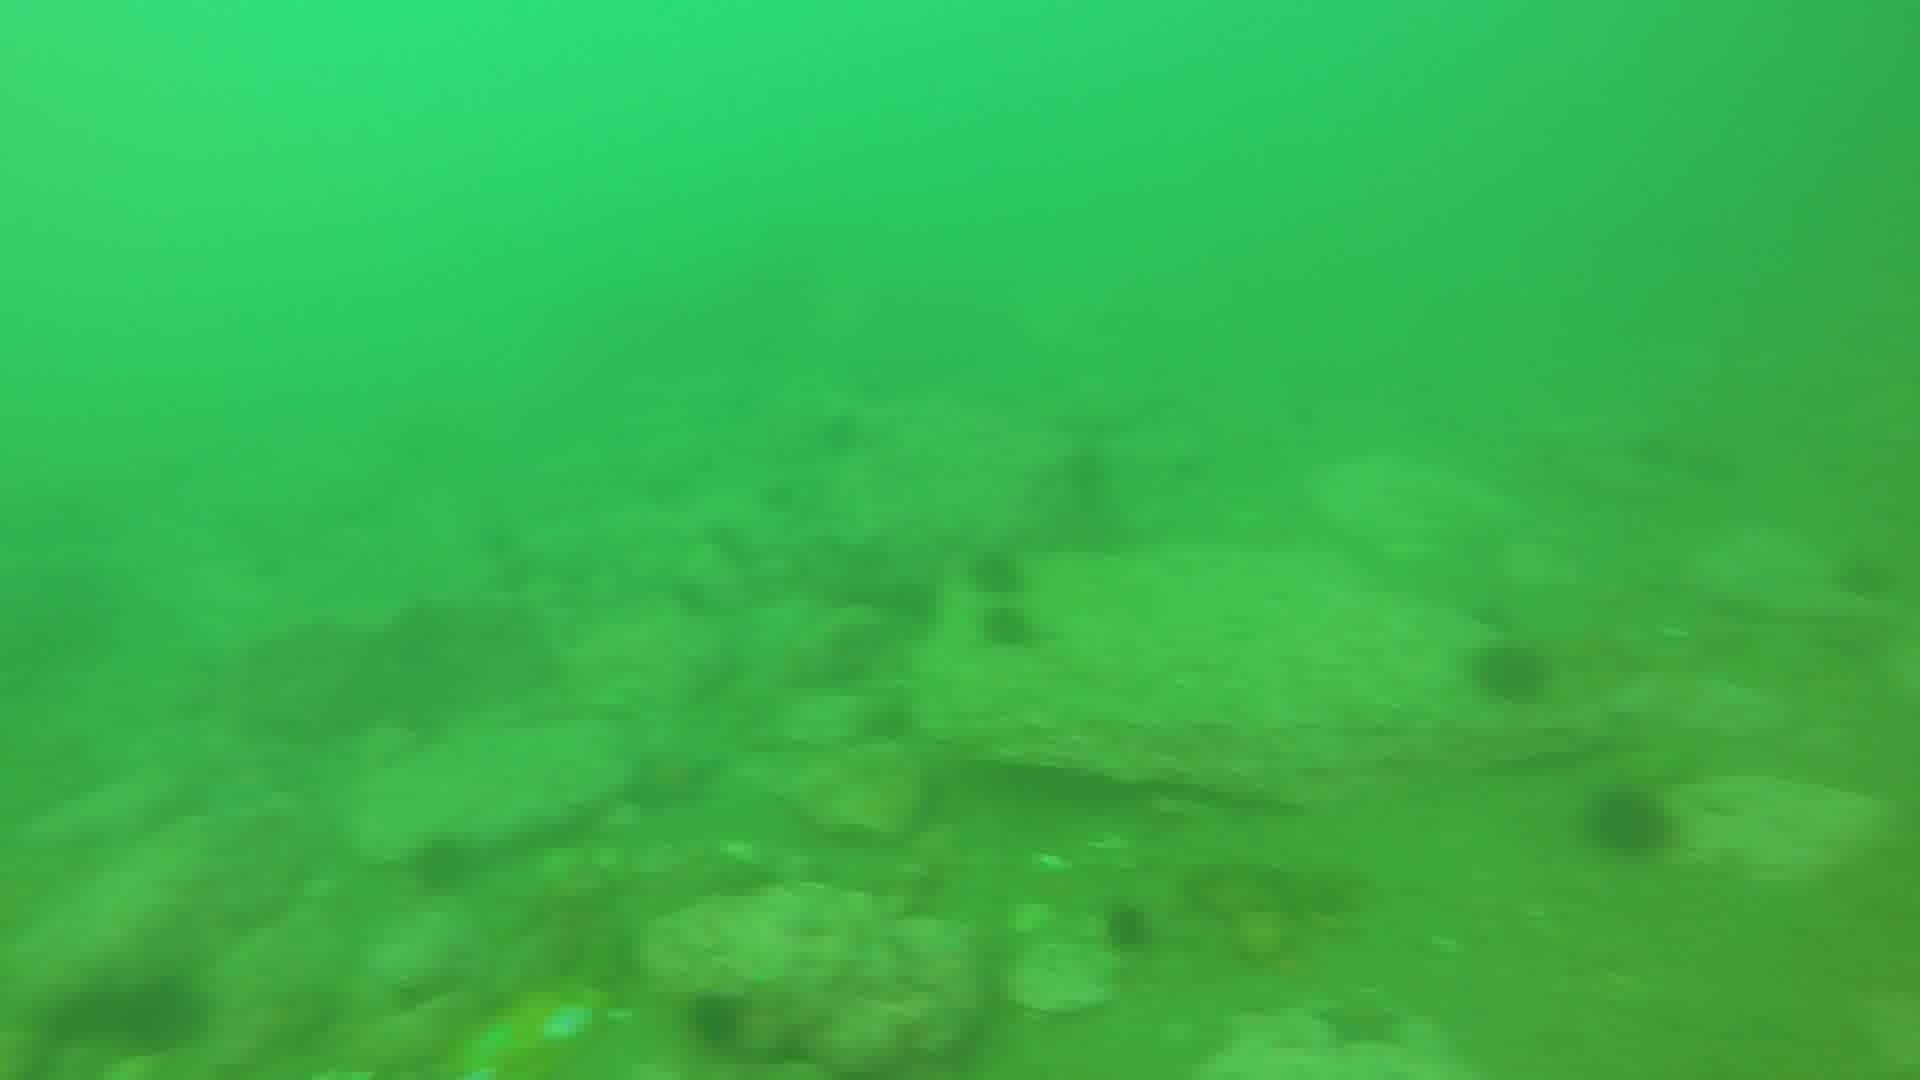echinus: (105, 969, 210, 1060), (1581, 782, 1677, 862), (1466, 636, 1556, 709), (679, 986, 754, 1058), (405, 831, 483, 899), (1829, 549, 1902, 605), (1096, 895, 1160, 957), (963, 545, 1033, 600), (651, 570, 720, 625), (745, 460, 814, 516), (851, 688, 919, 744), (973, 600, 1040, 655), (802, 400, 870, 454), (692, 512, 760, 566), (1465, 585, 1534, 637)
starfish: (617, 741, 725, 818), (1311, 986, 1408, 1054)
